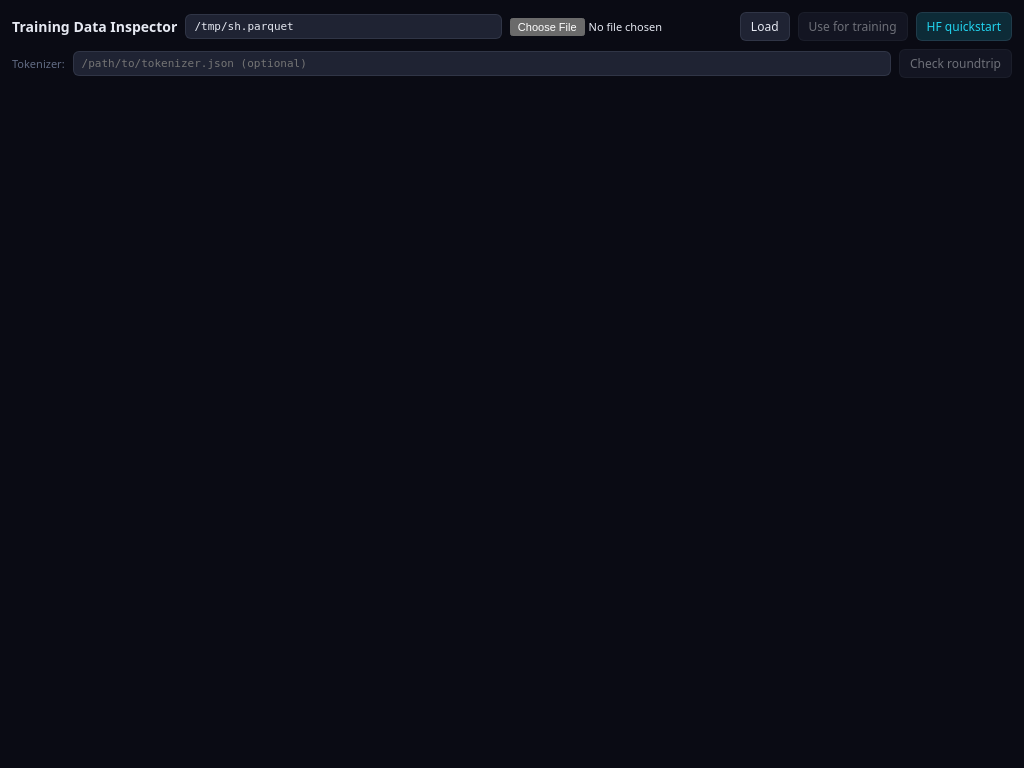
Test case: DataInspector › Load populates rows + channel toggles + metrics
Click the button with test id "data-load" at (765, 26), box [740,12,790,41]
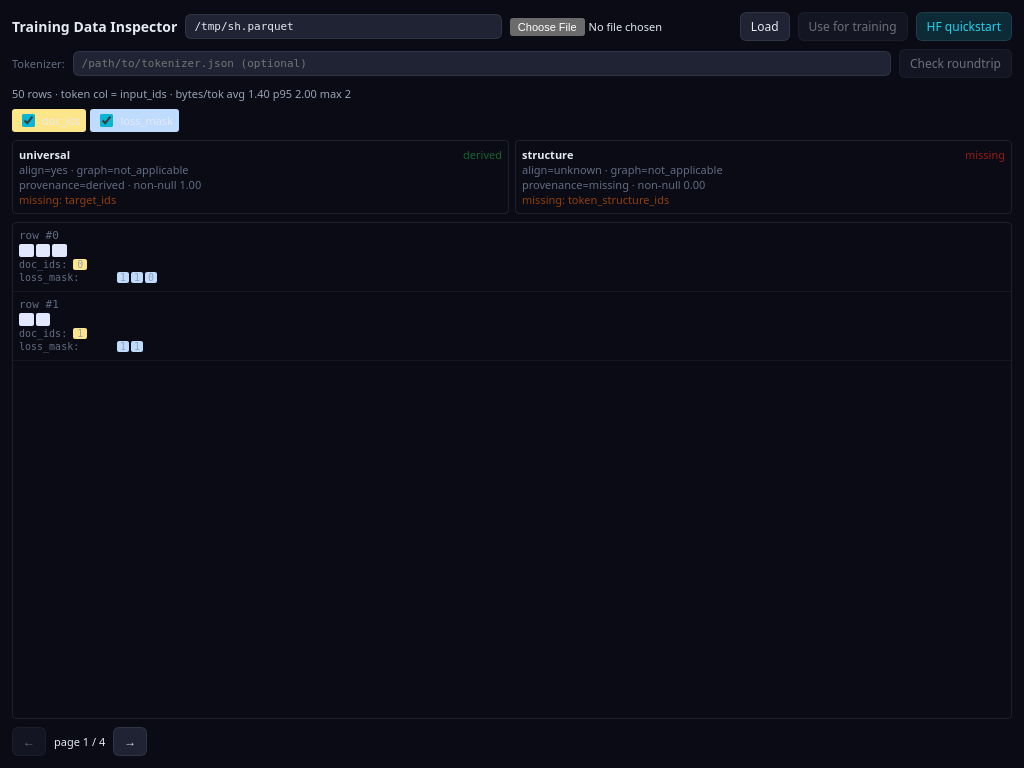
Expected: the text with test id "data-metrics" shows "50 rows", [12,86,351,101]
Expected: the text "doc_ids" is shown, [12,109,86,132]
Expected: the text "loss_mask" is shown, [90,109,179,132]
